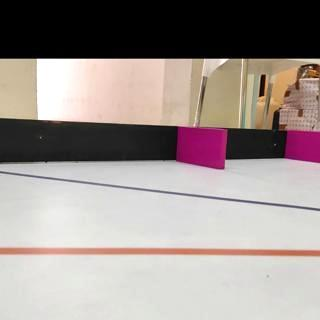xparking: (180, 126, 226, 166), (285, 130, 320, 159)
